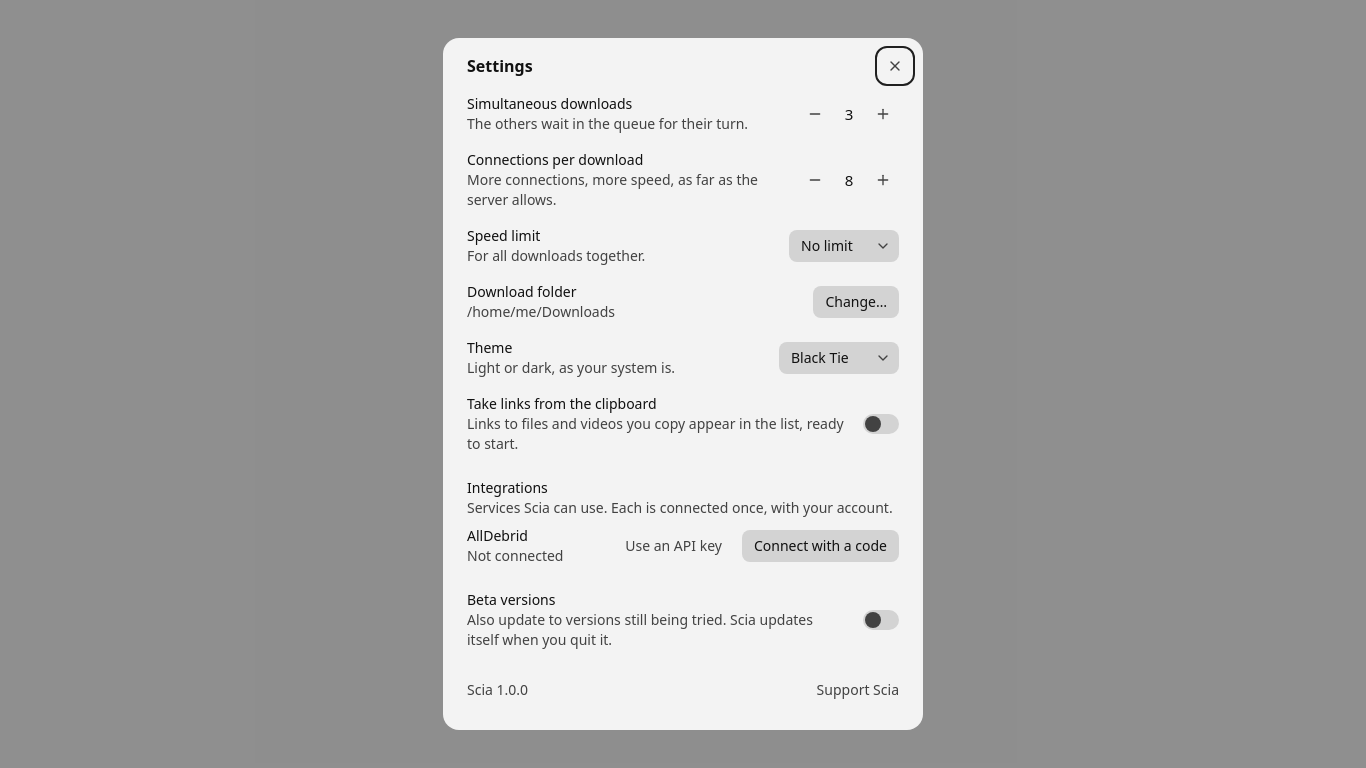
Test: SettingsDialog › the beta versions › are off until the person turns them on, and the engine keeps the switch
Click the switch labelled "Beta versions". click: (881, 620)
box: [863,610,899,630]
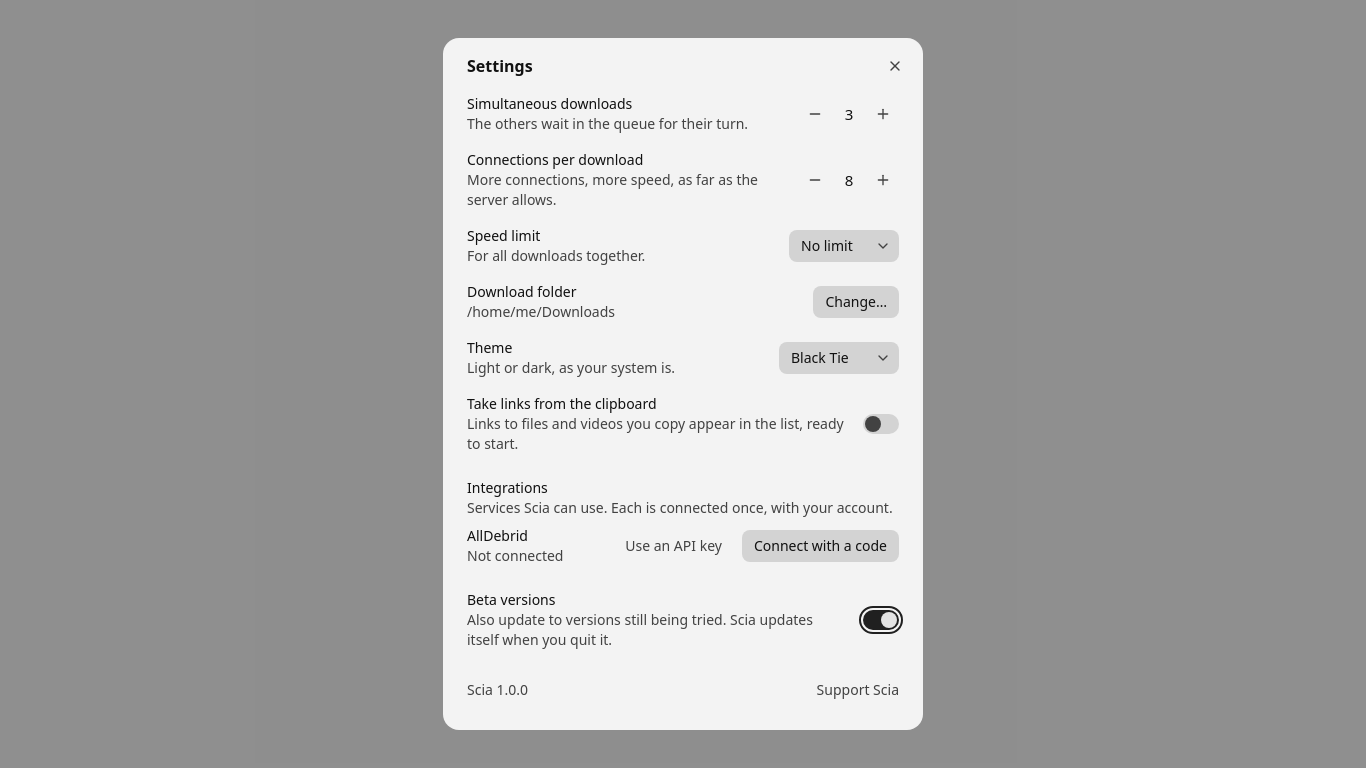
Result: the switch labelled "Beta versions" is checked at [863,610,899,630]
